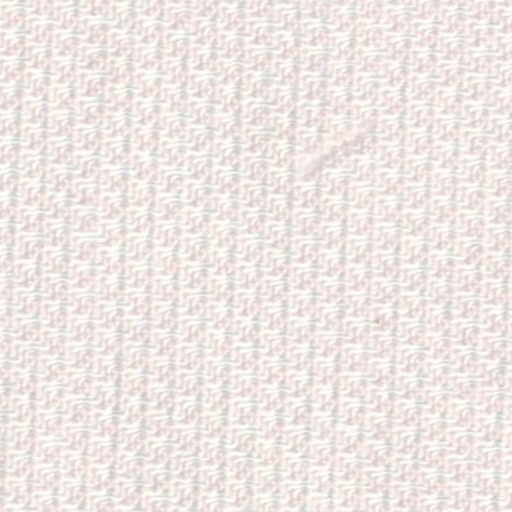DuanSha: (282, 114, 390, 198)
